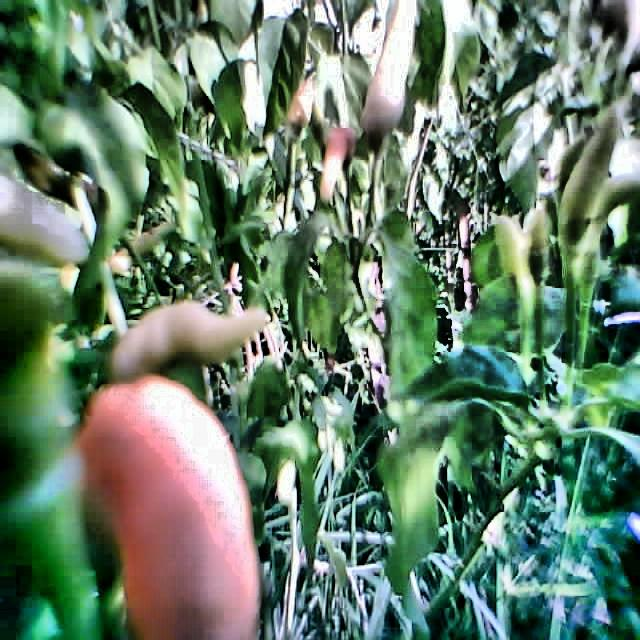Cabai: (90, 385, 276, 640), (313, 116, 362, 215)
